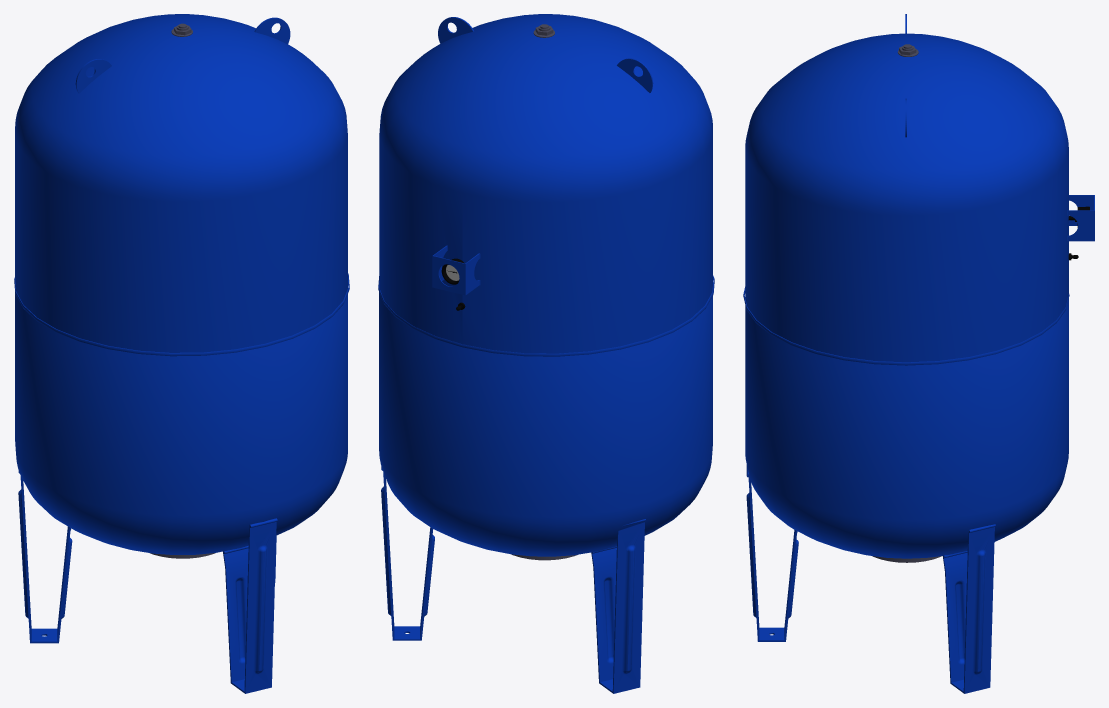
File: 500lt-hareketli-manometreli-dik-ayaklı.obj
3 views of the same model, side by side, from view 1: azimuth 30°, elevation 25°; view 2: azimuth 150°, elevation 25°; view 3: azimuth 270°, elevation 25° (orthographic). The views are drawn at different scales.
Visible parts, largest first — view 1: 500-hareketli-manometreli-dik-ayaklı.005, 500-hareketli-manometreli-dik-ayaklı.004, 500-hareketli-manometreli-dik-ayaklı.024, 500-hareketli-manometreli-dik-ayaklı, 500-hareketli-manometreli-dik-ayaklı.007, 500-hareketli-manometreli-dik-ayaklı.003, 500-hareketli-manometreli-dik-ayaklı.002; view 2: 500-hareketli-manometreli-dik-ayaklı.005, 500-hareketli-manometreli-dik-ayaklı.004, 500-hareketli-manometreli-dik-ayaklı, 500-hareketli-manometreli-dik-ayaklı.025, 500-hareketli-manometreli-dik-ayaklı.007, 500-hareketli-manometreli-dik-ayaklı.001, 500-hareketli-manometreli-dik-ayaklı.003, 500-hareketli-manometreli-dik-ayaklı.002; view 3: 500-hareketli-manometreli-dik-ayaklı.005, 500-hareketli-manometreli-dik-ayaklı.004, 500-hareketli-manometreli-dik-ayaklı.025, 500-hareketli-manometreli-dik-ayaklı.024, 500-hareketli-manometreli-dik-ayaklı.007, 500-hareketli-manometreli-dik-ayaklı.001.
Part boxes in pixels (x1,y1,x2,y2): 500-hareketli-manometreli-dik-ayaklı.005: (15,14,347,352); 500-hareketli-manometreli-dik-ayaklı.004: (15,293,347,554); 500-hareketli-manometreli-dik-ayaklı.024: (223,522,276,693); 500-hareketli-manometreli-dik-ayaklı: (18,476,72,643); 500-hareketli-manometreli-dik-ayaklı.007: (14,273,349,356); 500-hareketli-manometreli-dik-ayaklı.003: (75,59,111,93); 500-hareketli-manometreli-dik-ayaklı.002: (254,17,290,44); 500-hareketli-manometreli-dik-ayaklı.005: (379,14,712,353); 500-hareketli-manometreli-dik-ayaklı.004: (379,284,712,556); 500-hareketli-manometreli-dik-ayaklı: (591,522,644,693); 500-hareketli-manometreli-dik-ayaklı.025: (381,472,434,640); 500-hareketli-manometreli-dik-ayaklı.007: (378,275,714,356); 500-hareketli-manometreli-dik-ayaklı.001: (432,245,479,295); 500-hareketli-manometreli-dik-ayaklı.003: (617,58,653,92); 500-hareketli-manometreli-dik-ayaklı.002: (438,17,473,43); 500-hareketli-manometreli-dik-ayaklı.005: (745,33,1068,362); 500-hareketli-manometreli-dik-ayaklı.004: (745,297,1068,558); 500-hareketli-manometreli-dik-ayaklı.025: (943,527,994,693); 500-hareketli-manometreli-dik-ayaklı.024: (746,477,798,641); 500-hareketli-manometreli-dik-ayaklı.007: (743,287,1069,365); 500-hareketli-manometreli-dik-ayaklı.001: (1067,195,1094,241).
Bounding box in the file's own units: 14.36 × 28.66 × 15.47.
